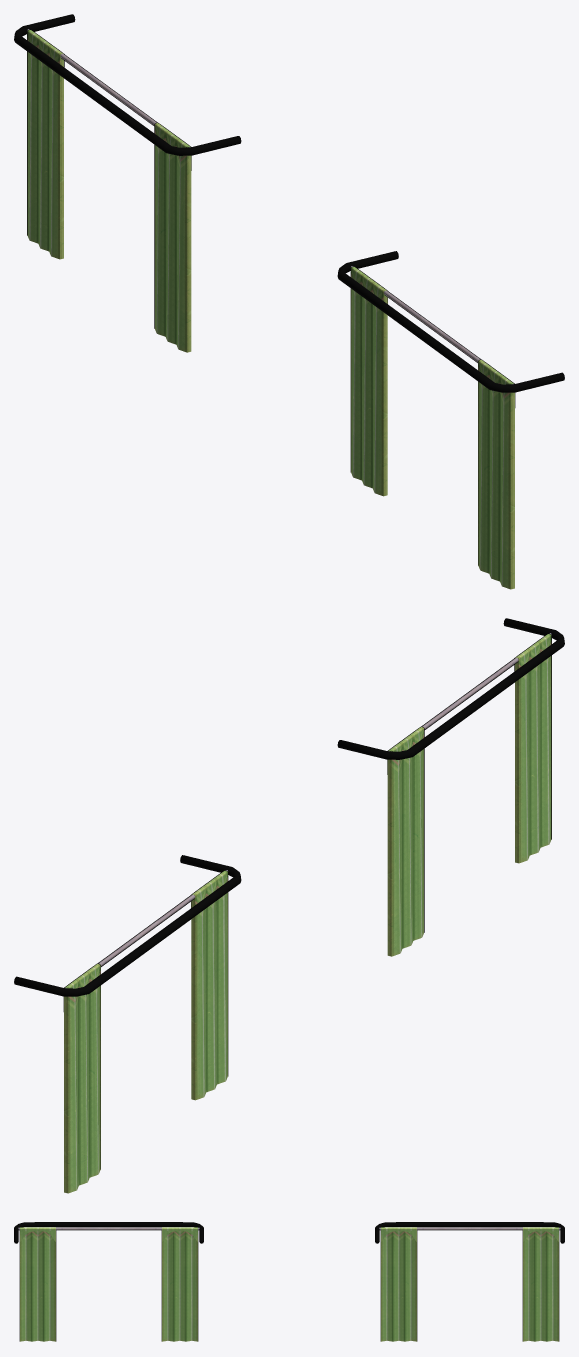
Rendered from Curtain.fbx.
3 renders of one model, top to bottom at view 1: azimuth 30°, elevation 25°; view 2: azimuth 150°, elevation 25°; view 3: azimuth 270°, elevation 25°, orthographic. The views are drawn at different scales.
Visible parts, largest first — view 1: Curtain; view 2: Curtain; view 3: Curtain.
Part boxes in pixels (<box>): Curtain: <box>14,14,564,589</box>; Curtain: <box>14,618,564,1193</box>; Curtain: <box>14,1222,564,1341</box>.
Size of the model in its own units: 77.84 by 231 by 997.
